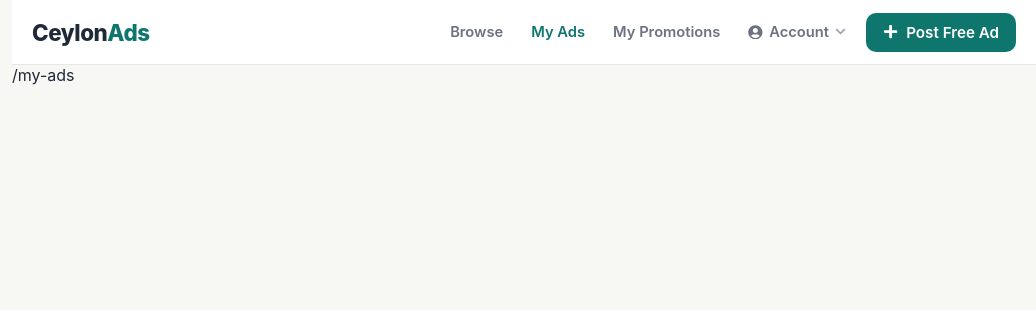
Header - authenticated desktop › opens the Account dropdown and displays the current username
Click the button "Account" at [797, 32], box [744,15,850,49]
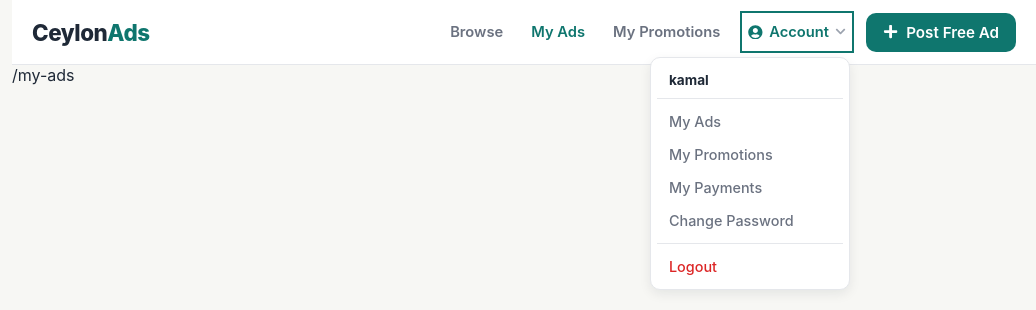
Now the menu is shown, box [650,57,850,290]
Now the text "kamal" is shown, box [669,72,709,88]
